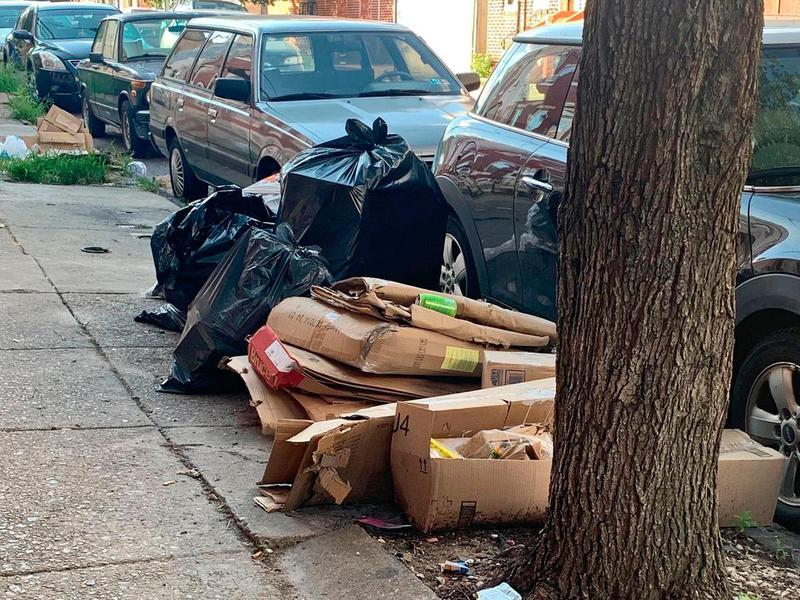can: (413, 288, 460, 317)
cardboard: (222, 297, 557, 402), (392, 402, 550, 531), (256, 400, 392, 515), (309, 276, 560, 333), (716, 423, 790, 531)
plastic: (137, 186, 326, 395), (285, 117, 449, 284)
